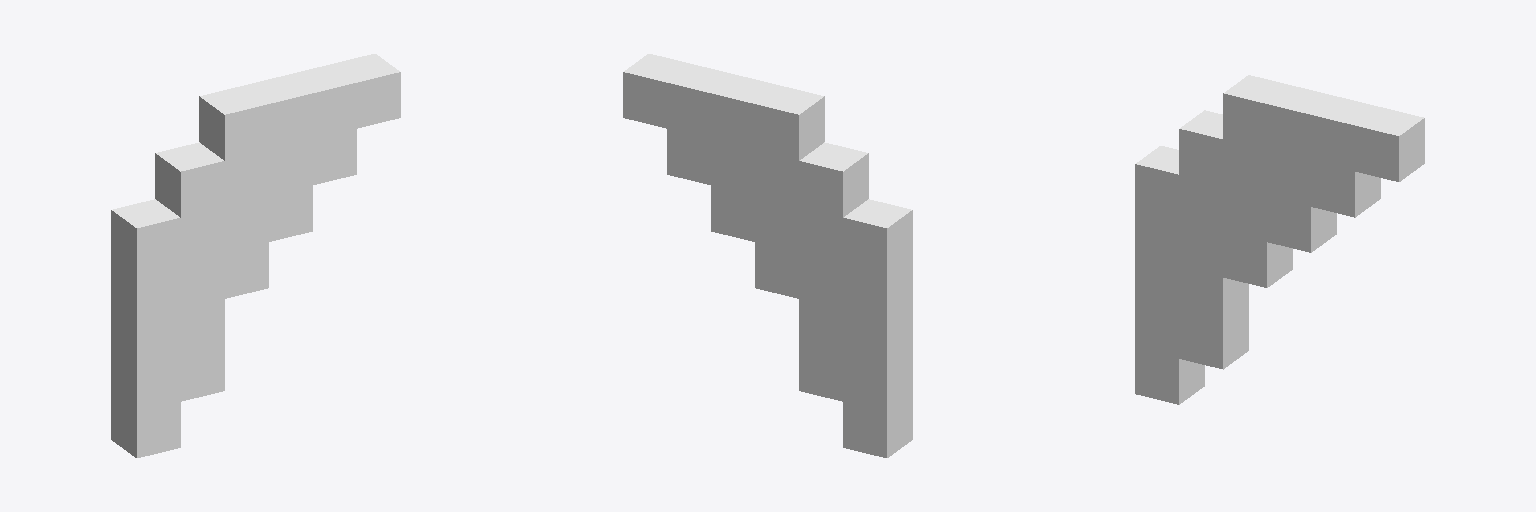
The model's file is YellowHouseParts-44.obj.
3 renders of one model, left to right at view 1: azimuth 30°, elevation 25°; view 2: azimuth 150°, elevation 25°; view 3: azimuth 330°, elevation 25°, orthographic.
Visible parts, largest first — view 1: object 1; view 2: object 1; view 3: object 1.
Part boxes in pixels (bbox=[...]): object 1: bbox=[111, 54, 400, 457]; object 1: bbox=[623, 54, 912, 457]; object 1: bbox=[1135, 75, 1424, 404].
Size of the model in its own units: 0.6 by 0.7 by 0.1.